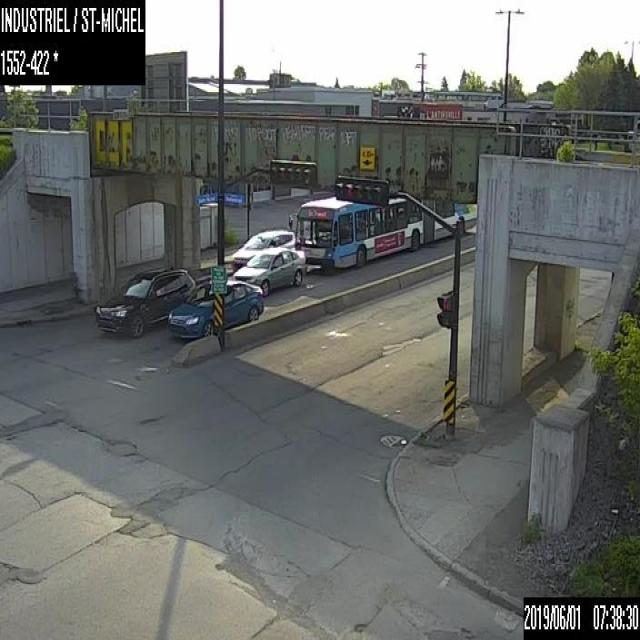bus: (295, 194, 476, 268)
pedestrian: (286, 212, 294, 229)
vehicle: (94, 267, 194, 337), (166, 279, 262, 340), (233, 245, 305, 294), (232, 230, 295, 264)
